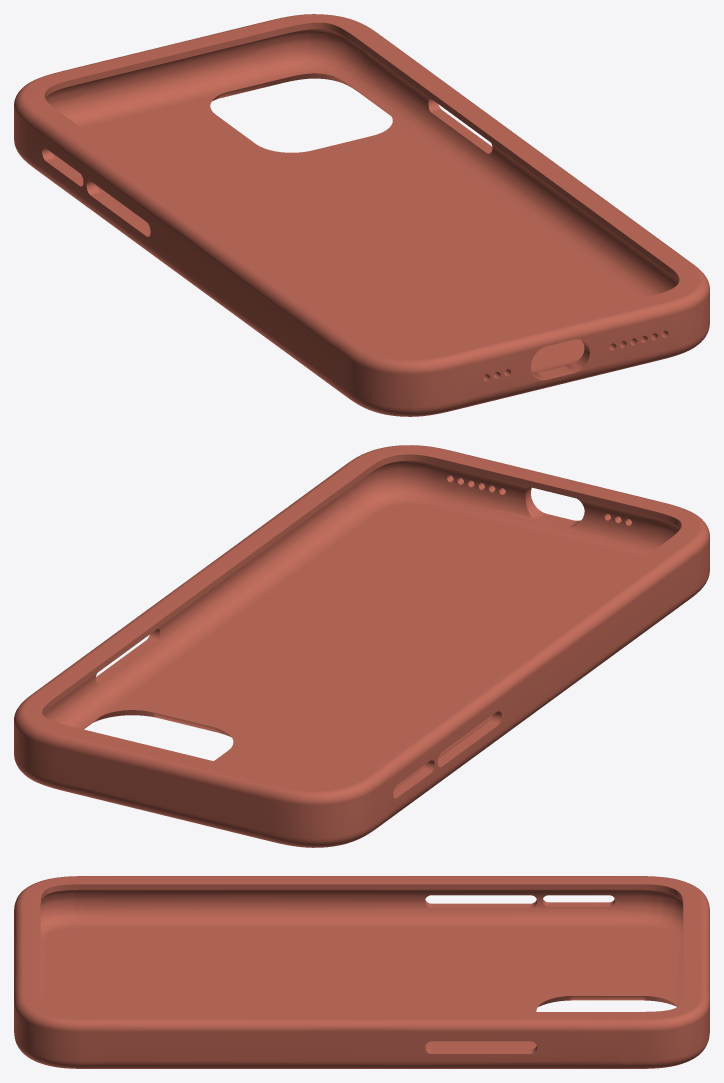
Rendered from iphone_11_pro_case.glb.
3 views of the same model, one above another, from view 1: azimuth 30°, elevation 25°; view 2: azimuth 150°, elevation 25°; view 3: azimuth 270°, elevation 25° (orthographic). The views are drawn at different scales.
Visible parts, largest first — view 1: Object_2; view 2: Object_2; view 3: Object_2.
Boxes of the visible parts, x1=… form: Object_2: x1=14, y1=14, x2=709, y2=416; Object_2: x1=14, y1=445, x2=709, y2=847; Object_2: x1=14, y1=876, x2=709, y2=1068.
Bounding box in the file's own units: 75.9 × 11.85 × 149.
